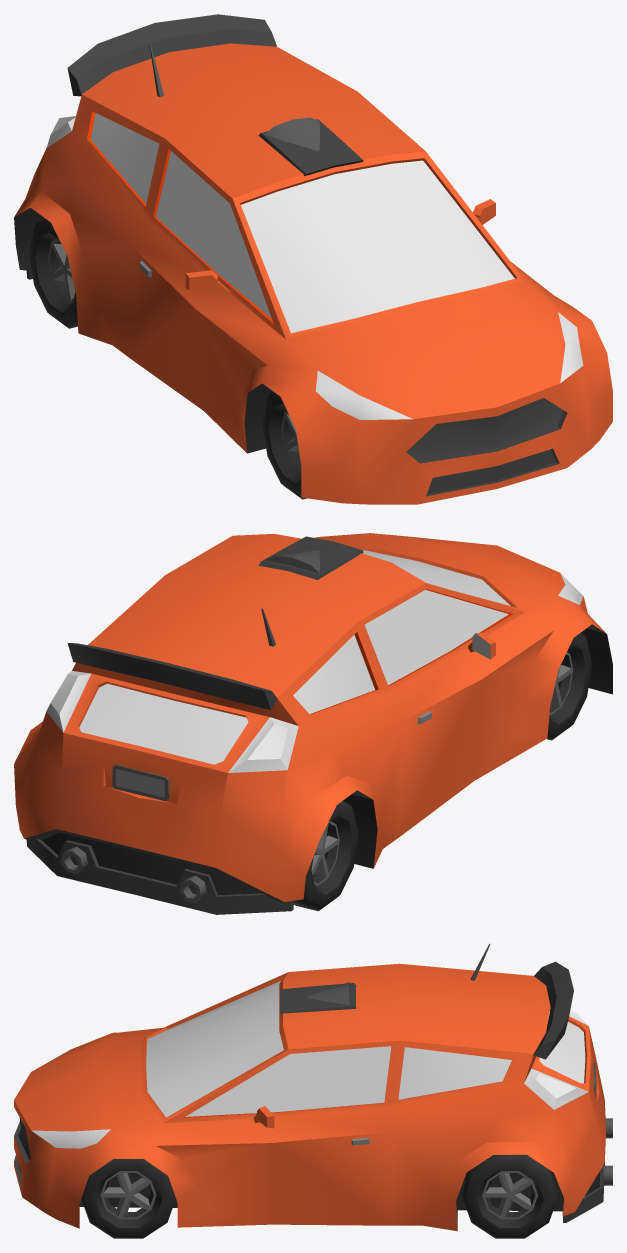
File: rally.fbx
The picture shows the model from 3 angles, top to bottom: view 1: azimuth 30°, elevation 25°; view 2: azimuth 150°, elevation 25°; view 3: azimuth 270°, elevation 25°; orthographic projection. The views are drawn at different scales.
Parts seen in each view (by area): view 1: rally, wheels.018, wheels.019; view 2: rally, wheels.018, wheels.019; view 3: rally, wheels.041, wheels.040.
Part boxes in pixels (x1=…): rally: x1=14, y1=14, x2=612, y2=504; wheels.018: x1=29, y1=218, x2=77, y2=328; wheels.019: x1=262, y1=391, x2=306, y2=499; rally: x1=14, y1=533, x2=612, y2=914; wheels.018: x1=293, y1=801, x2=358, y2=911; wheels.019: x1=547, y1=632, x2=591, y2=740; rally: x1=14, y1=943, x2=612, y2=1231; wheels.041: x1=462, y1=1155, x2=557, y2=1238; wheels.040: x1=81, y1=1159, x2=175, y2=1238.
Bounding box in the file's own units: 197 × 162 × 402.
